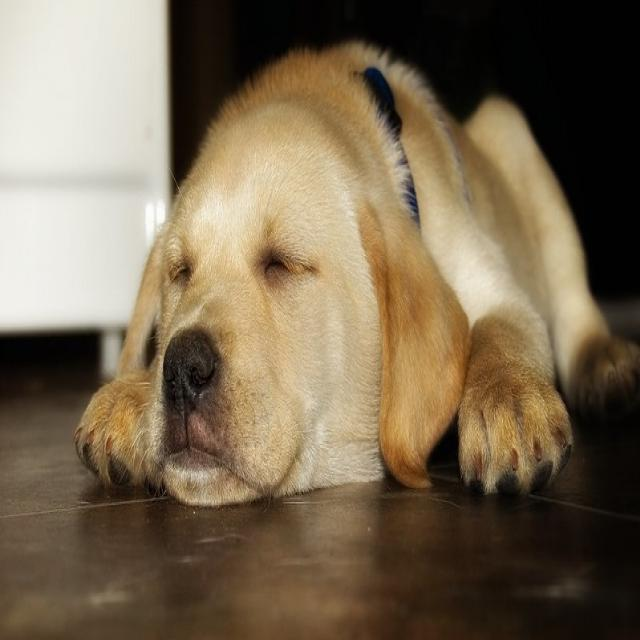laying down: (73, 28, 640, 512)
